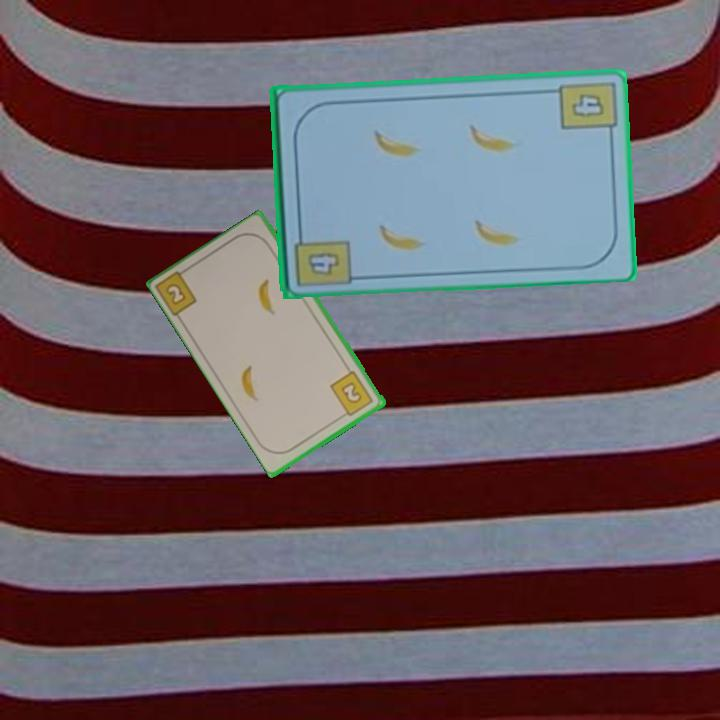2b: (327, 367, 376, 421), (154, 263, 200, 320)
4b: (554, 77, 617, 141), (304, 248, 343, 278)
